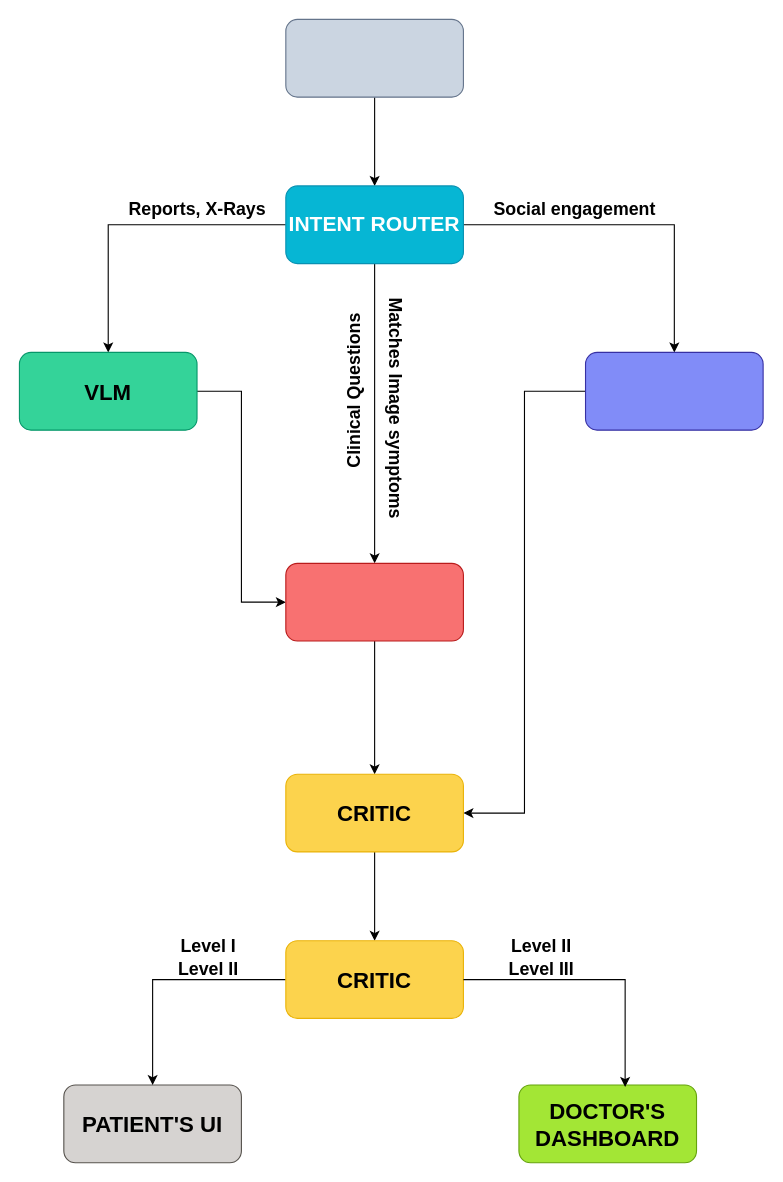
The diagram is 783 pixels wide and 1182 high, and some of its shapes have lost their labels. The shapes that lost their labels are listed below. From the top down, each one's box as (x1, y1, x2, y2) in pixels, then its label:
(285, 18, 463, 97): INPUT QUERY
(584, 351, 763, 430): COMPANION
(285, 562, 463, 641): RAG + LLM
